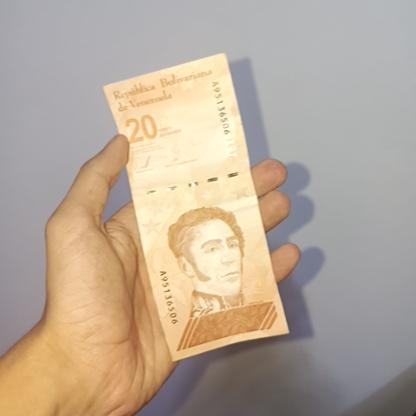twenty-front-vef: (102, 52, 288, 362)
